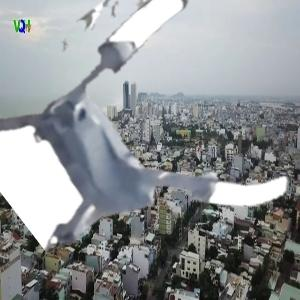drone: (2, 7, 283, 288)
